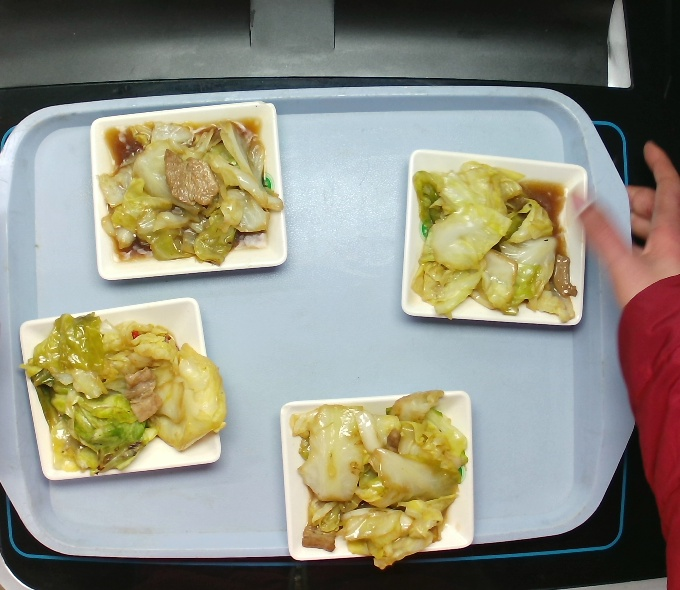wcq-JuanXinCaiChaoRou: (18, 308, 235, 471), (284, 384, 469, 570), (89, 107, 284, 274), (404, 160, 585, 327)
